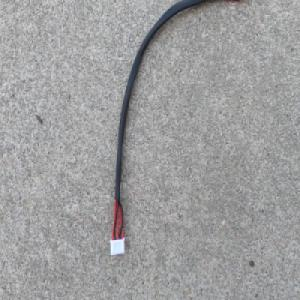Wire: (108, 0, 246, 260)
